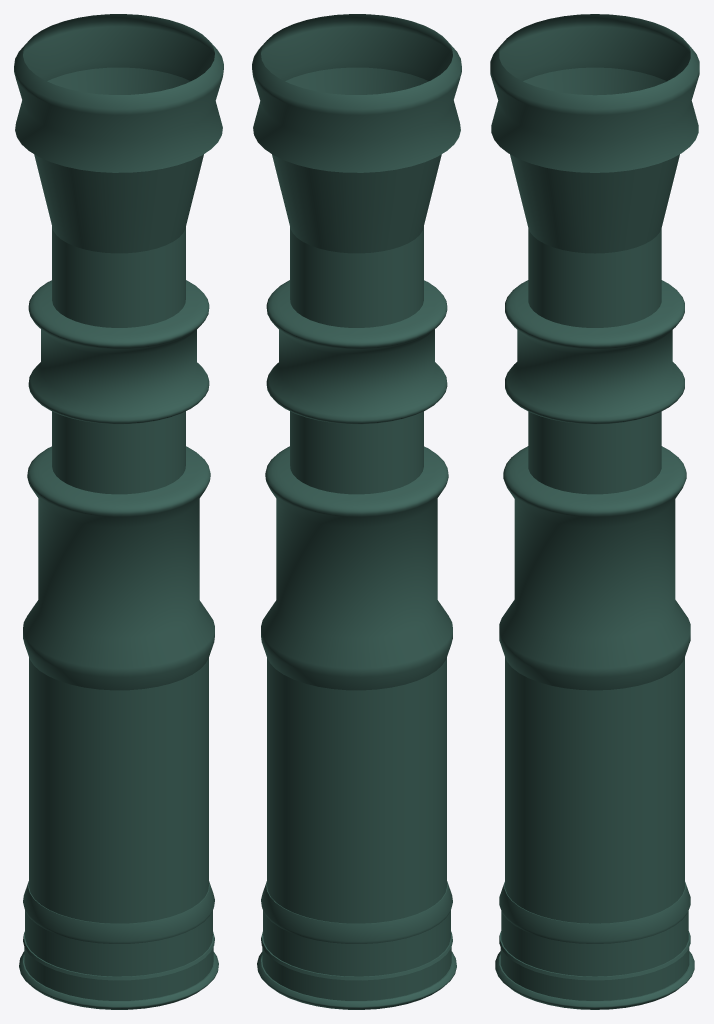
The model's file is LG Collumn by VR.FBX.
3 renders of one model, left to right at view 1: azimuth 30°, elevation 25°; view 2: azimuth 150°, elevation 25°; view 3: azimuth 270°, elevation 25°, orthographic.
Parts seen in each view (by area): view 1: Cylinder109; view 2: Cylinder109; view 3: Cylinder109.
Part boxes in pixels (box(x1,y1,x2,y2)): Cylinder109: box(14, 14, 223, 1009); Cylinder109: box(252, 14, 461, 1009); Cylinder109: box(490, 14, 699, 1009).
Size of the model in its own units: 66.59 by 320 by 66.37.
